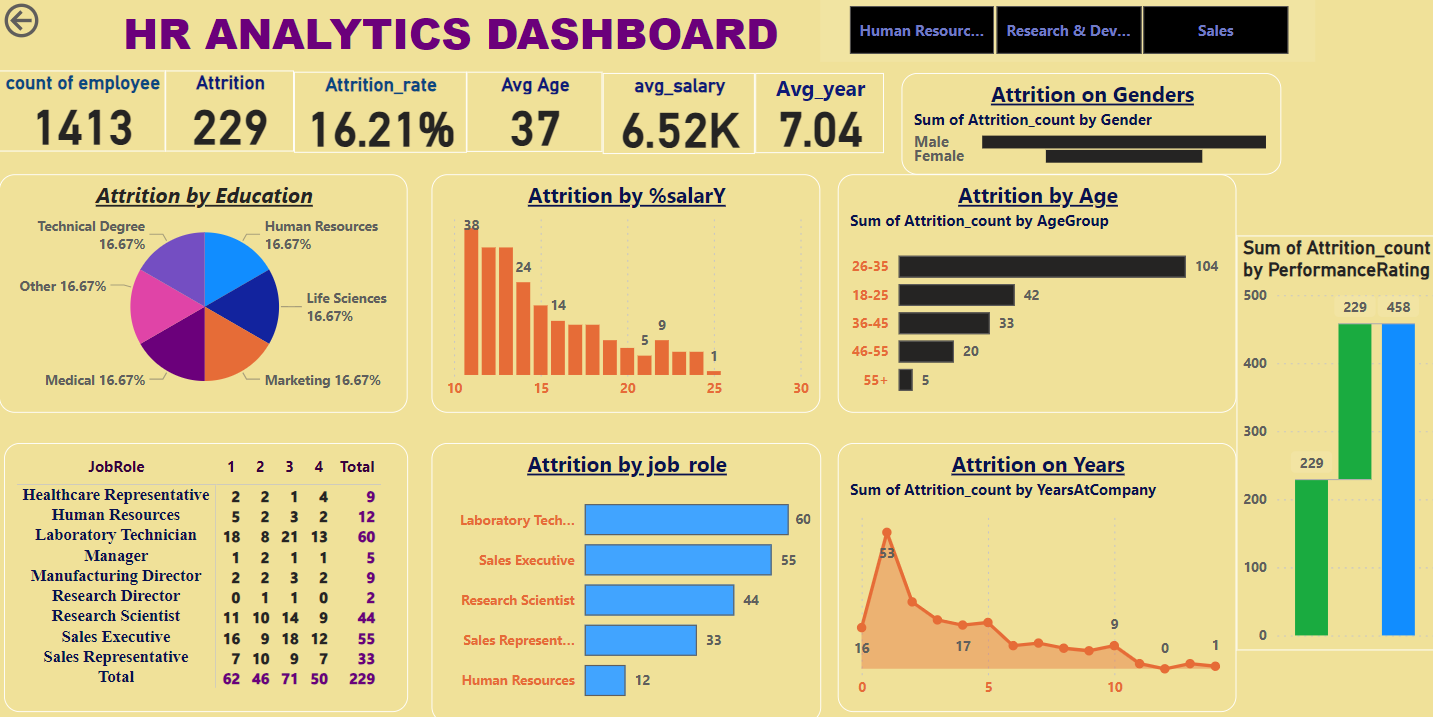

The page's visual inventory and layout, read from the dashboard file:
{"tool":"powerbi","page":{"name":"Page 1","canvas":[1280,720],"ordinal":0},"visuals":[{"type":"card","title":"count of employee","fields":{"Values":["CountNonNull(HR_Analytics.EmpID)"]},"box":[0,64.4,147.8,72.2],"z":0},{"type":"card","title":"Attrition","fields":{"Values":["Sum(HR_Analytics.Attrition_count)"]},"box":[147.8,64.4,114.4,72.2],"z":1000},{"type":"card","title":"Attrition_rate","fields":{"Values":["HR_Analytics.Attrition_rate"]},"box":[262.2,65.6,153.3,72.2],"z":2000},{"type":"card","title":"Avg Age","fields":{"Values":["Avg(HR_Analytics.Age)"]},"box":[415.6,65.6,121.1,71.1],"z":3000},{"type":"card","title":"avg_salary","fields":{"Values":["Avg(HR_Analytics.MonthlyIncome)"]},"box":[536.7,66.7,135.6,72.2],"z":4000},{"type":"card","title":"Avg_year","fields":{"Values":["Avg(HR_Analytics.YearsAtCompany)"]},"box":[672.2,66.7,114.4,71.1],"z":5000},{"type":"pieChart","title":" Attrition by Education","fields":{"Category":["Attrition_count.EducationField"],"Y":["Sum(HR_Analytics.Attrition_count)"]},"box":[0,156.7,363.3,212.2],"z":6000},{"type":"columnChart","title":" Attrition by %salarY","fields":{"Y":["Sum(HR_Analytics.Attrition_count)"],"Category":["HR_Analytics.PercentSalaryHike"]},"box":[384.4,156.7,345.6,212.2],"z":7000},{"type":"pivotTable","fields":{"Rows":["HR_Analytics.JobRole"],"Columns":["HR_Analytics.JobSatisfaction"],"Values":["Sum(HR_Analytics.Attrition_count)"]},"box":[4,395,359,239],"z":8000},{"type":"actionButton","box":[0,0,100,40],"z":9000},{"type":"clusteredBarChart","title":" Attrition by Age","fields":{"Y":["Sum(HR_Analytics.Attrition_count)"],"Category":["HR_Analytics.AgeGroup"]},"box":[745.6,156.7,354.4,212.2],"z":10000},{"type":"clusteredBarChart","title":" Attrition by job_role","fields":{"Category":["HR_Analytics.JobRole"],"Y":["Sum(HR_Analytics.Attrition_count)"]},"box":[384,395,346,249],"z":11000},{"type":"lineChart","title":" Attrition on Years","fields":{"Y":["Sum(HR_Analytics.Attrition_count)"],"Category":["HR_Analytics.YearsAtCompany"]},"box":[745.6,395.6,354.4,238.9],"z":12000},{"type":"funnel","title":" Attrition on Genders","fields":{"Category":["HR_Analytics.Gender"],"Y":["Sum(HR_Analytics.Attrition_count)"]},"box":[802.2,66.7,337.8,90],"z":13000},{"type":"slicer","fields":{"Values":["HR_Analytics.Department"]},"box":[730,0,440,56.7],"z":14000},{"type":"textbox","box":[50,0,703.3,66.7],"z":15000},{"type":"waterfallChart","fields":{"Category":["Attrition_count.PerformanceRating"],"Y":["Sum(HR_Analytics.Attrition_count)"]},"box":[1100,211.1,180,368.9],"z":16000}]}

Visuals, with their boxes on the page's 1280x720 design canvas (x1, y1, x2, y2). These are canvas units, not pixel positions in the 1433x717 screenshot, which may show the page scaled, cropped or inside an application window:
"count of employee" card: box(0, 64, 148, 137)
"Attrition" card: box(148, 64, 262, 137)
"Attrition_rate" card: box(262, 66, 416, 138)
"Avg Age" card: box(416, 66, 537, 137)
"avg_salary" card: box(537, 67, 672, 139)
"Avg_year" card: box(672, 67, 787, 138)
" Attrition by Education" pieChart: box(0, 157, 363, 369)
" Attrition by %salarY" columnChart: box(384, 157, 730, 369)
pivotTable - HR_Analytics.JobRole x HR_Analytics.JobSatisfaction: box(4, 395, 363, 634)
actionButton: box(0, 0, 100, 40)
" Attrition by Age" clusteredBarChart: box(746, 157, 1100, 369)
" Attrition by job_role" clusteredBarChart: box(384, 395, 730, 644)
" Attrition on Years" lineChart: box(746, 396, 1100, 634)
" Attrition on Genders" funnel: box(802, 67, 1140, 157)
slicer - HR_Analytics.Department: box(730, 0, 1170, 57)
textbox: box(50, 0, 753, 67)
waterfallChart - Attrition_count.PerformanceRating x Sum(HR_Analytics.Attrition_count): box(1100, 211, 1280, 580)
